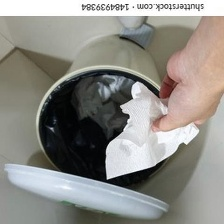tissue: (99, 77, 204, 185)
